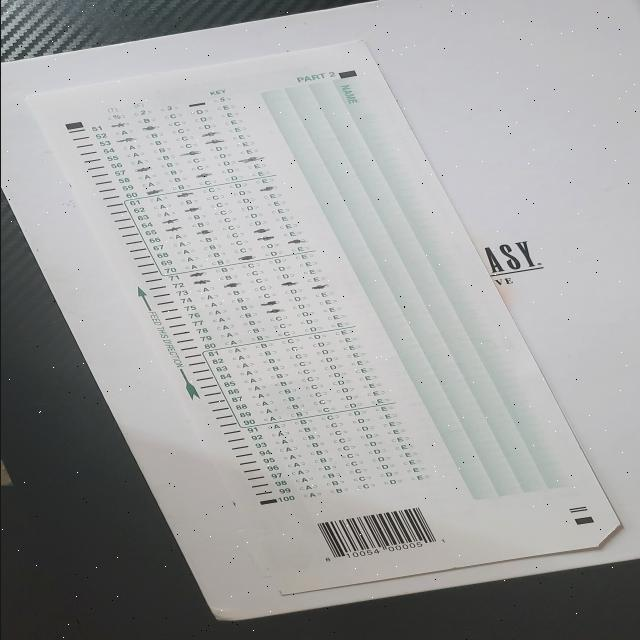scantron_back: (20, 40, 622, 596)
